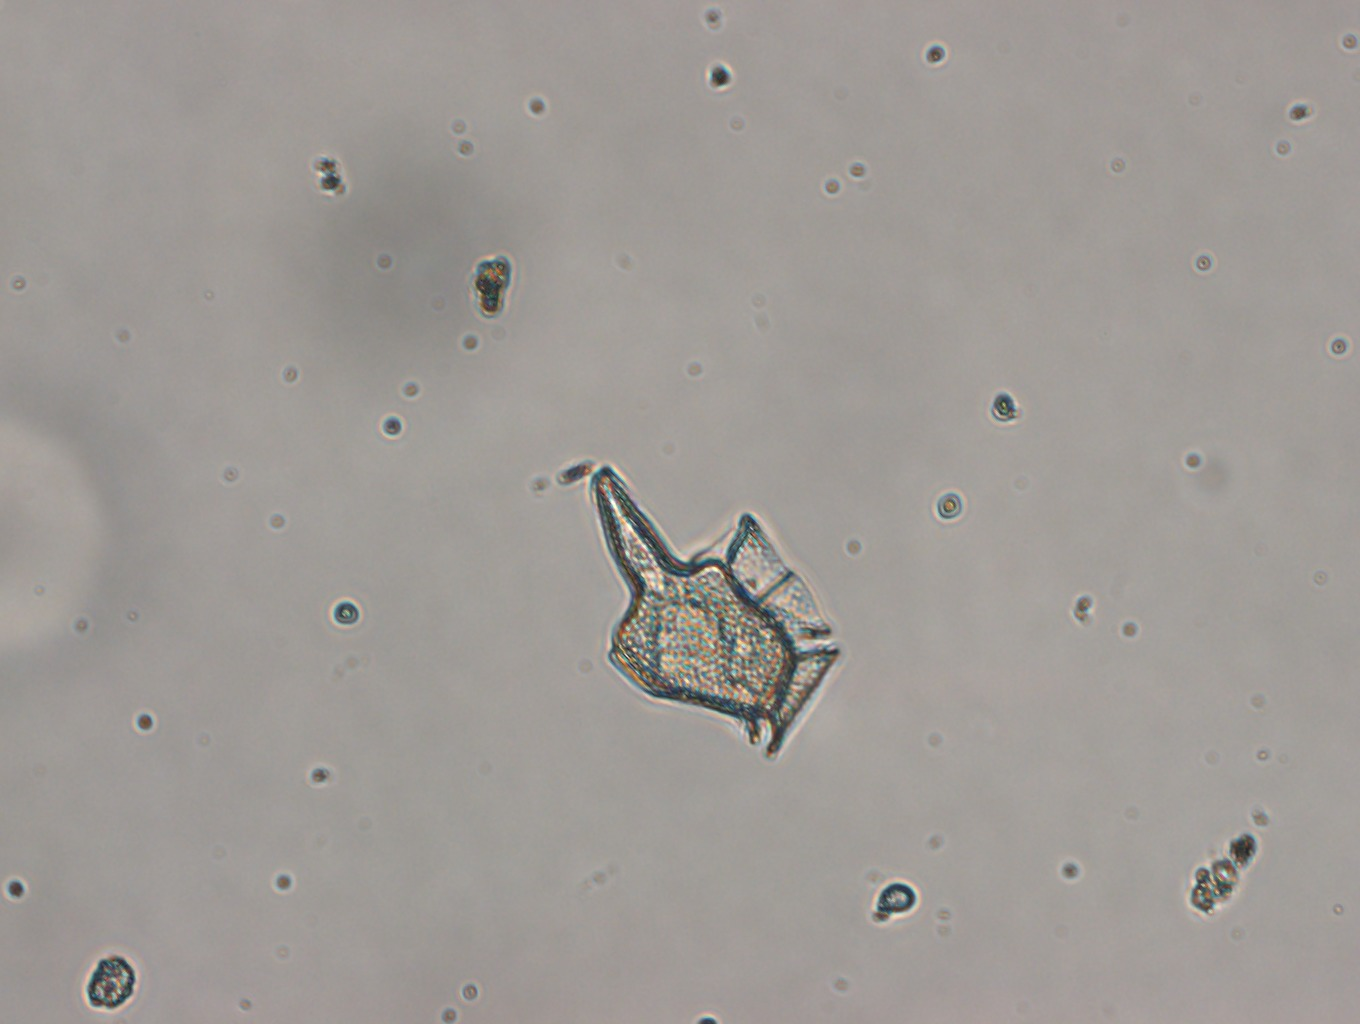dinophysis caudata: (587, 457, 847, 762)
